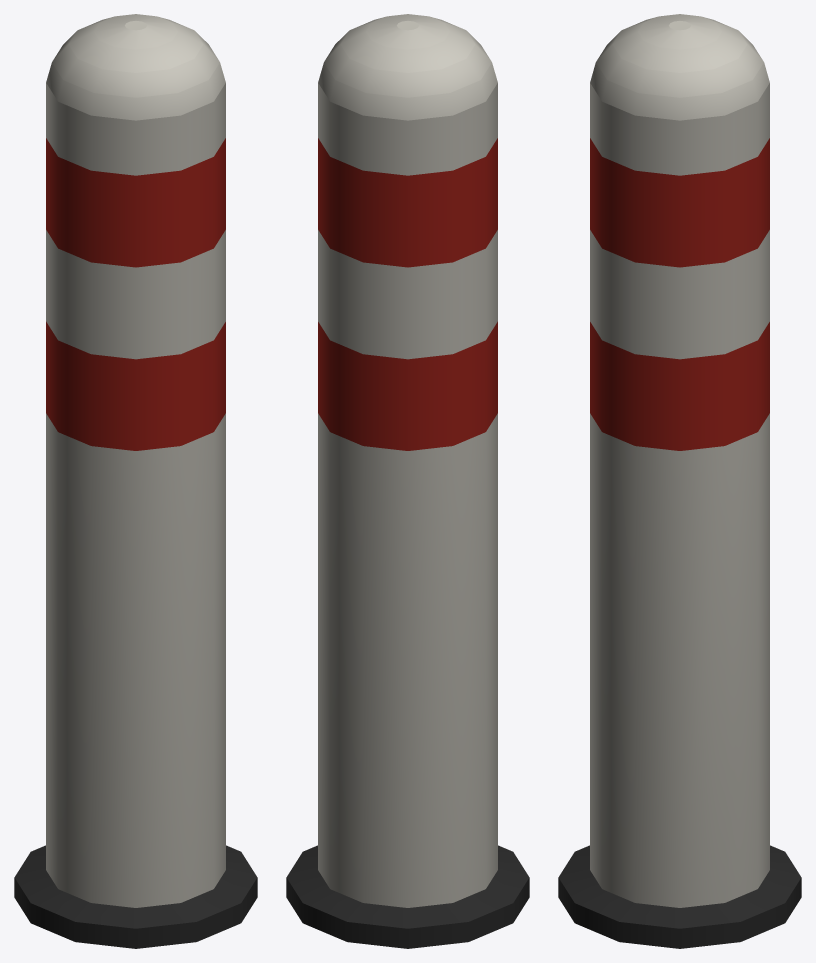
The model's file is barrier.bollard.striped.glb.
3 views of the same model, side by side, from view 1: azimuth 30°, elevation 25°; view 2: azimuth 150°, elevation 25°; view 3: azimuth 270°, elevation 25° (orthographic).
Visible parts, largest first — view 1: barrier_bollard_striped; view 2: barrier_bollard_striped; view 3: barrier_bollard_striped.
Boxes of the visible parts, x1,y1,x2,y2 form: barrier_bollard_striped: (14, 14, 257, 948); barrier_bollard_striped: (286, 14, 529, 948); barrier_bollard_striped: (558, 14, 801, 948).
Size of what is drawn, in the model's own units: 0.24 by 0.95 by 0.24.
